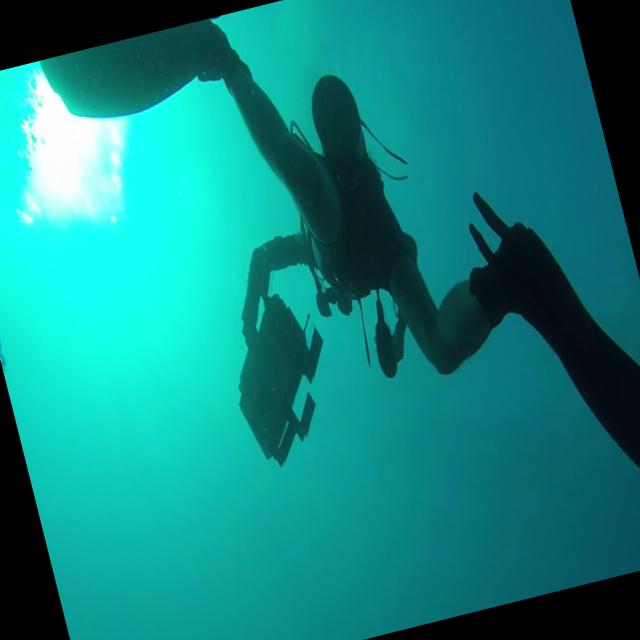human: (38, 0, 520, 455)
